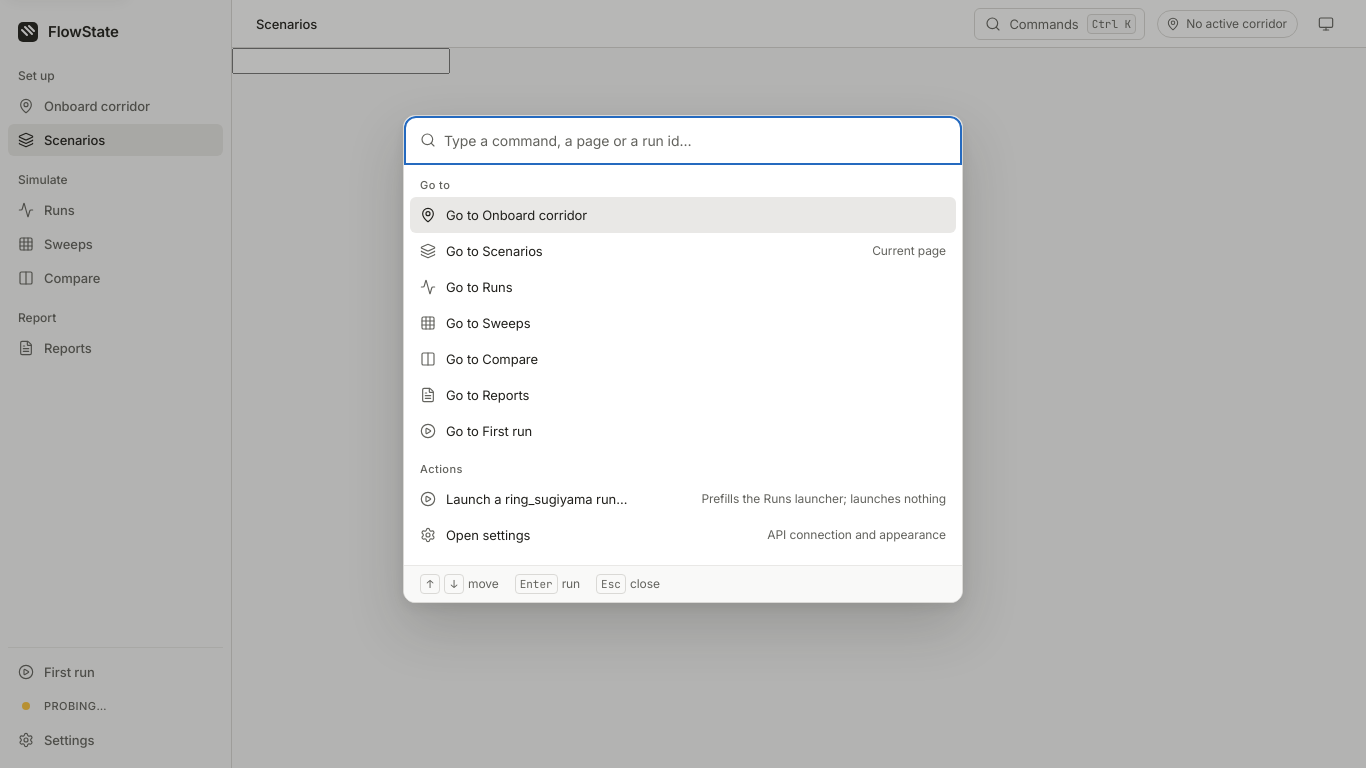
Scenario: command palette: keyboard model › filters fuzzily, highlights the match, and Enter goes to the page with content focused
The image size is (1366, 768).
Type "swe" into the dropdown named "Search commands".
click(695, 140); type("swe")  # box [444, 120, 946, 160]
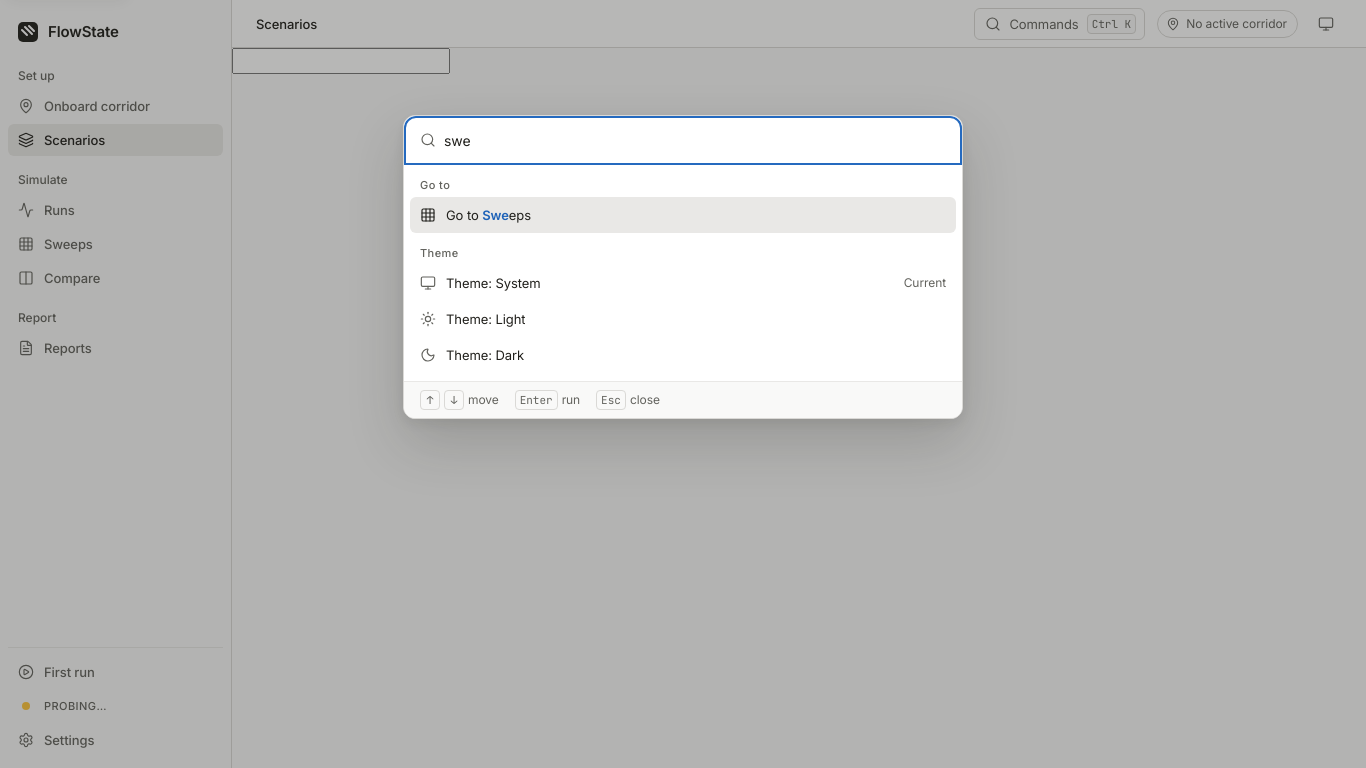
Press Enter in the dropdown named "Search commands", box [444, 120, 946, 160]
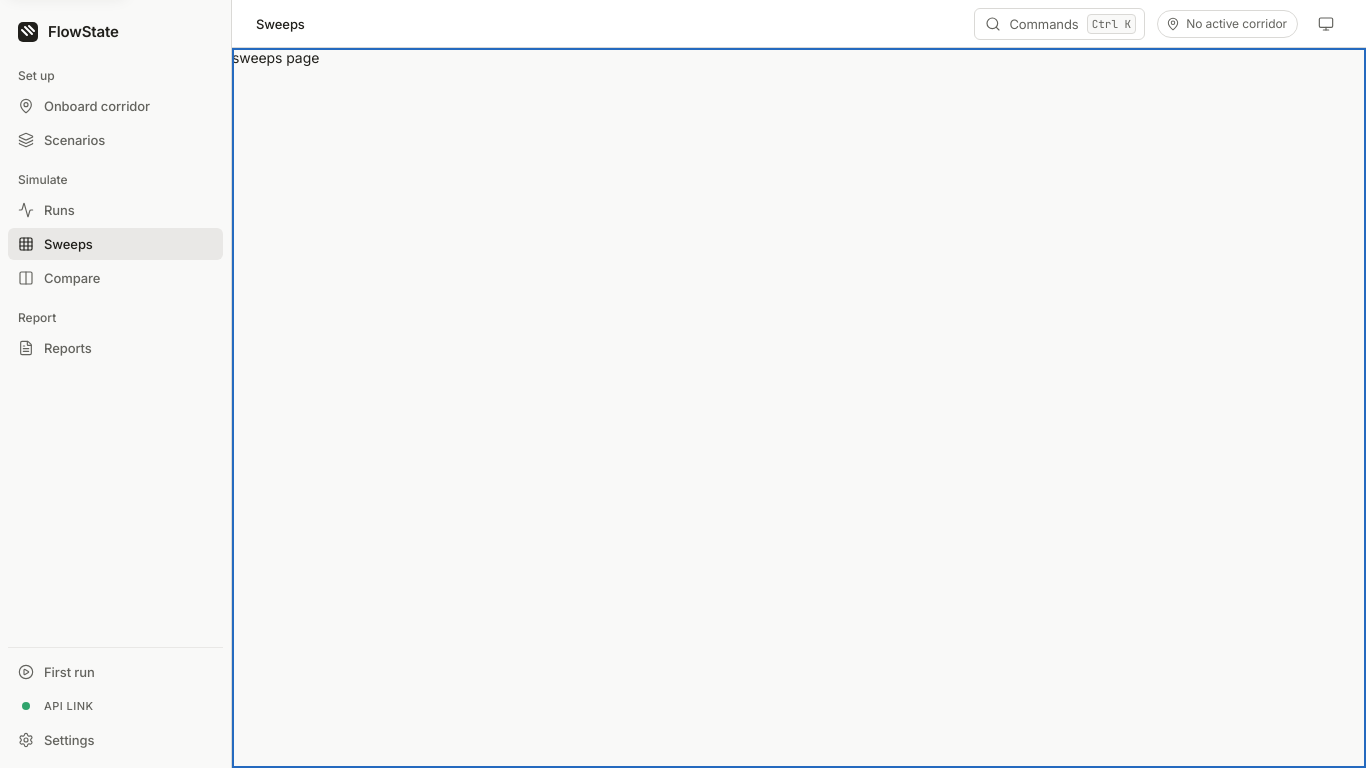
Expected: the text "sweeps page" is shown, [232, 49, 319, 66]
Expected: the text "API LINK" is shown, [44, 698, 93, 714]
